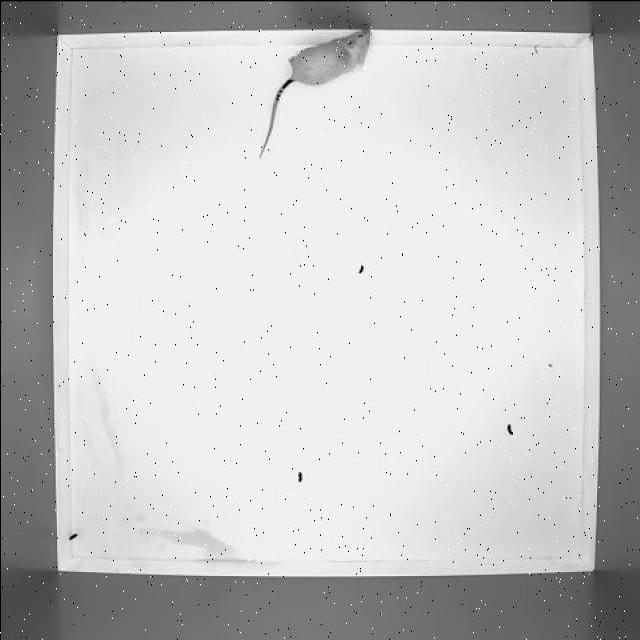rat: (256, 26, 372, 162)
